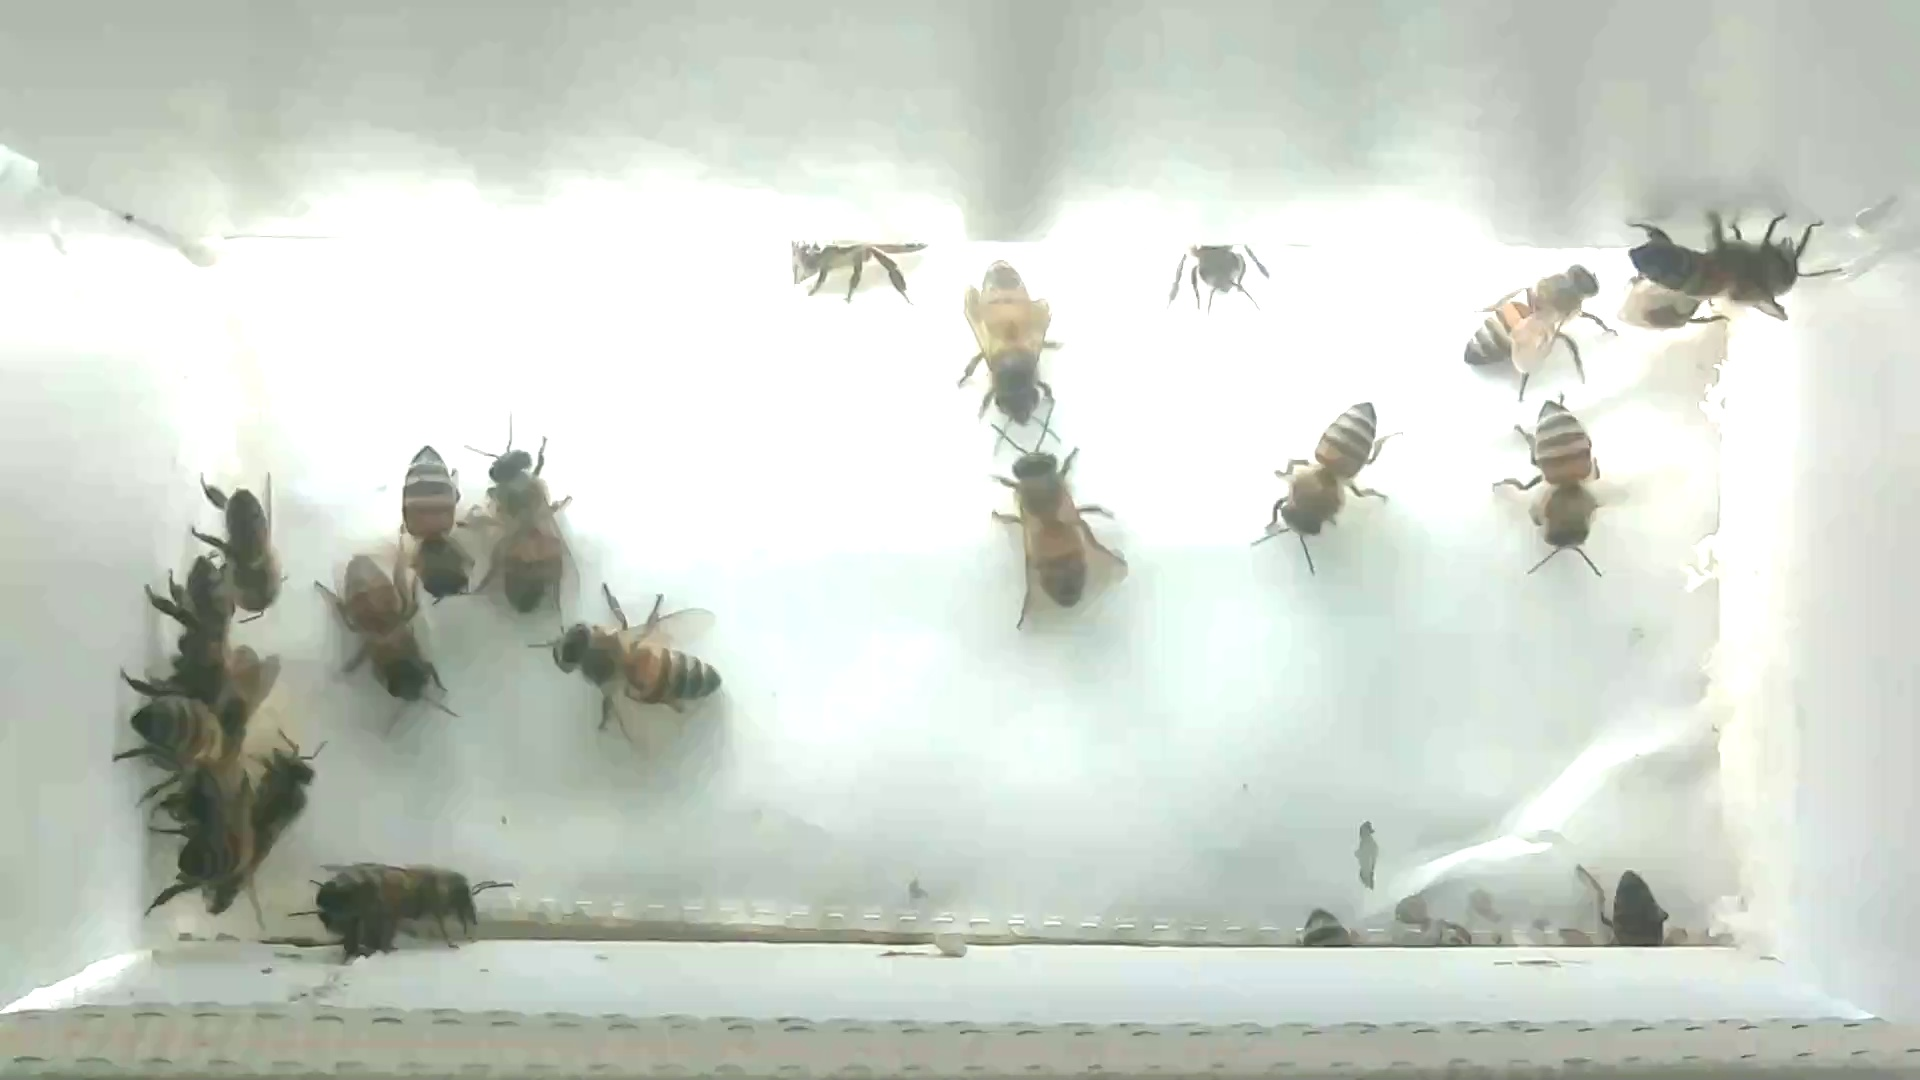bee: (530, 580, 752, 750), (975, 413, 1145, 624), (1236, 385, 1416, 582), (301, 535, 468, 725), (938, 251, 1083, 444), (367, 418, 504, 620), (1495, 393, 1629, 593), (294, 843, 521, 959), (459, 429, 585, 622), (1626, 208, 1845, 320), (1455, 255, 1619, 394), (775, 222, 944, 314), (224, 716, 328, 861), (1565, 844, 1691, 963), (191, 479, 293, 618), (135, 555, 241, 686), (108, 688, 244, 785), (146, 785, 249, 903), (1160, 237, 1283, 326)
